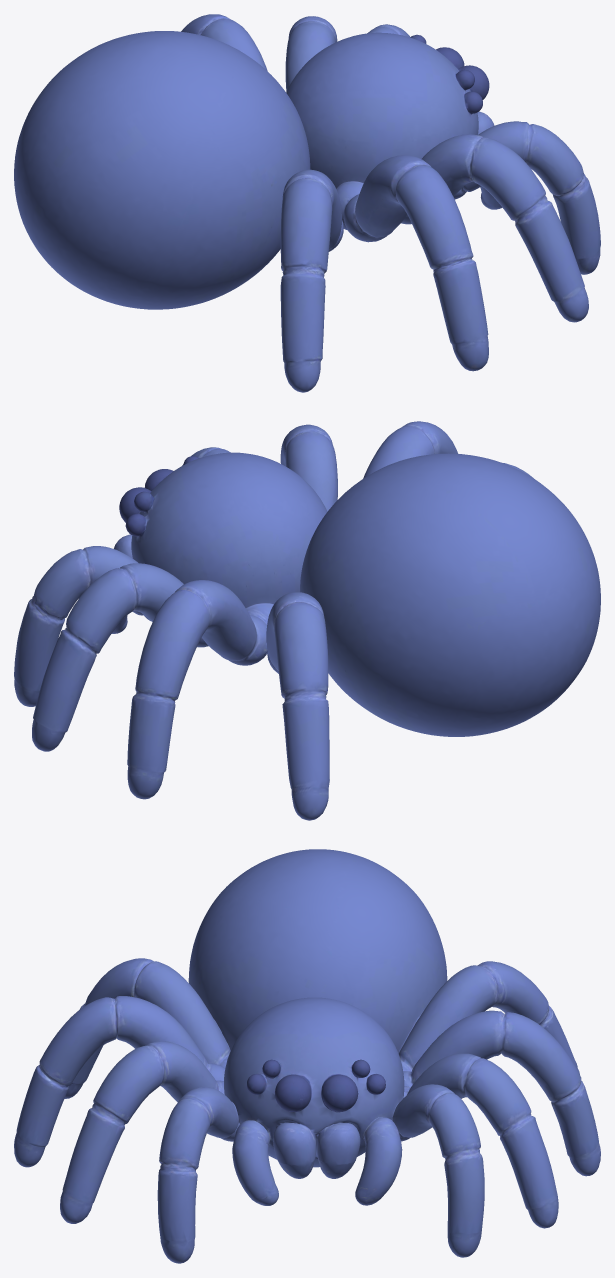
Rendered from spider.glb.
The picture shows the model from 3 angles, top to bottom: view 1: azimuth 30°, elevation 25°; view 2: azimuth 150°, elevation 25°; view 3: azimuth 270°, elevation 25°; orthographic projection. The views are drawn at different scales.
Parts seen in each view (by area): view 1: tripo_node_6b39f73c-5240-4e4d-8872-aecb7e1921bd; view 2: tripo_node_6b39f73c-5240-4e4d-8872-aecb7e1921bd; view 3: tripo_node_6b39f73c-5240-4e4d-8872-aecb7e1921bd.
Boxes of the visible parts, x1,y1,x2,y2 form: tripo_node_6b39f73c-5240-4e4d-8872-aecb7e1921bd: [14, 14, 600, 392]; tripo_node_6b39f73c-5240-4e4d-8872-aecb7e1921bd: [14, 421, 600, 820]; tripo_node_6b39f73c-5240-4e4d-8872-aecb7e1921bd: [14, 849, 600, 1263].
Size of the model in its own units: 0.8806 by 0.4458 by 0.9792.
1 material, 1 textured.
